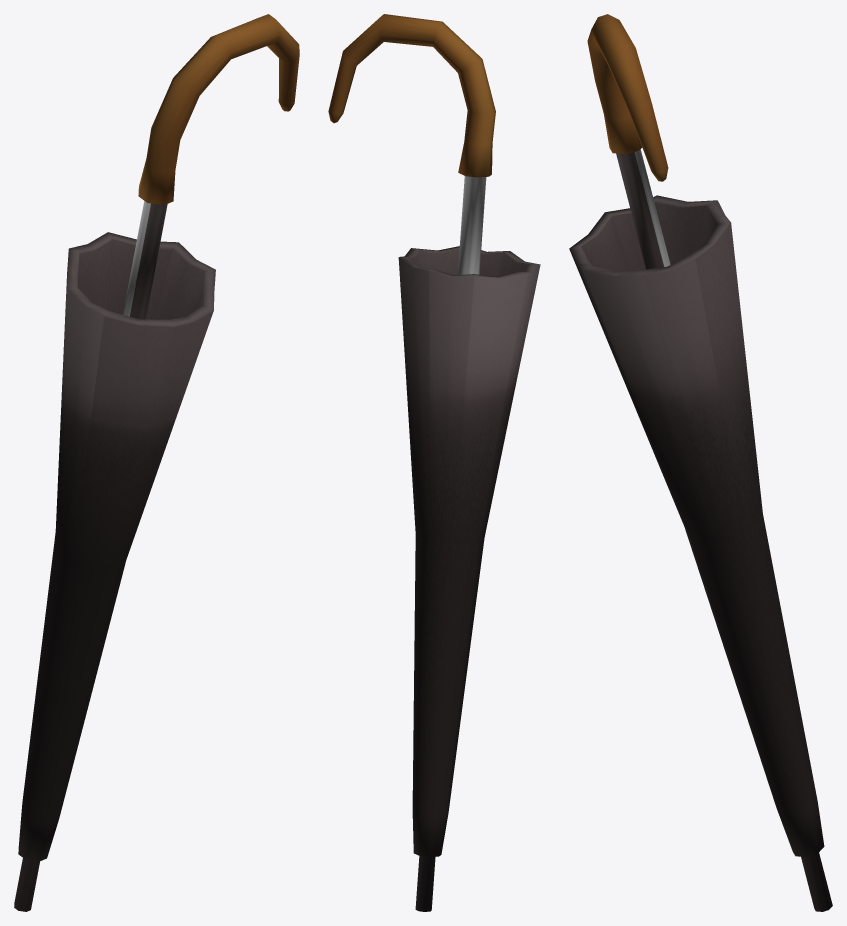
Rendered from Brollie.fbx.
The picture shows the model from 3 angles, left to right: view 1: azimuth 30°, elevation 25°; view 2: azimuth 150°, elevation 25°; view 3: azimuth 270°, elevation 25°; orthographic projection. The views are drawn at different scales.
Visible parts, largest first — view 1: Cube.023_Cube.001; view 2: Cube.023_Cube.001; view 3: Cube.023_Cube.001.
Part boxes in pixels (<box>): Cube.023_Cube.001: <box>14,14,299,911</box>; Cube.023_Cube.001: <box>328,14,540,911</box>; Cube.023_Cube.001: <box>569,14,832,911</box>.
Bounding box in the file's own units: 58.48 × 227 × 57.83.
